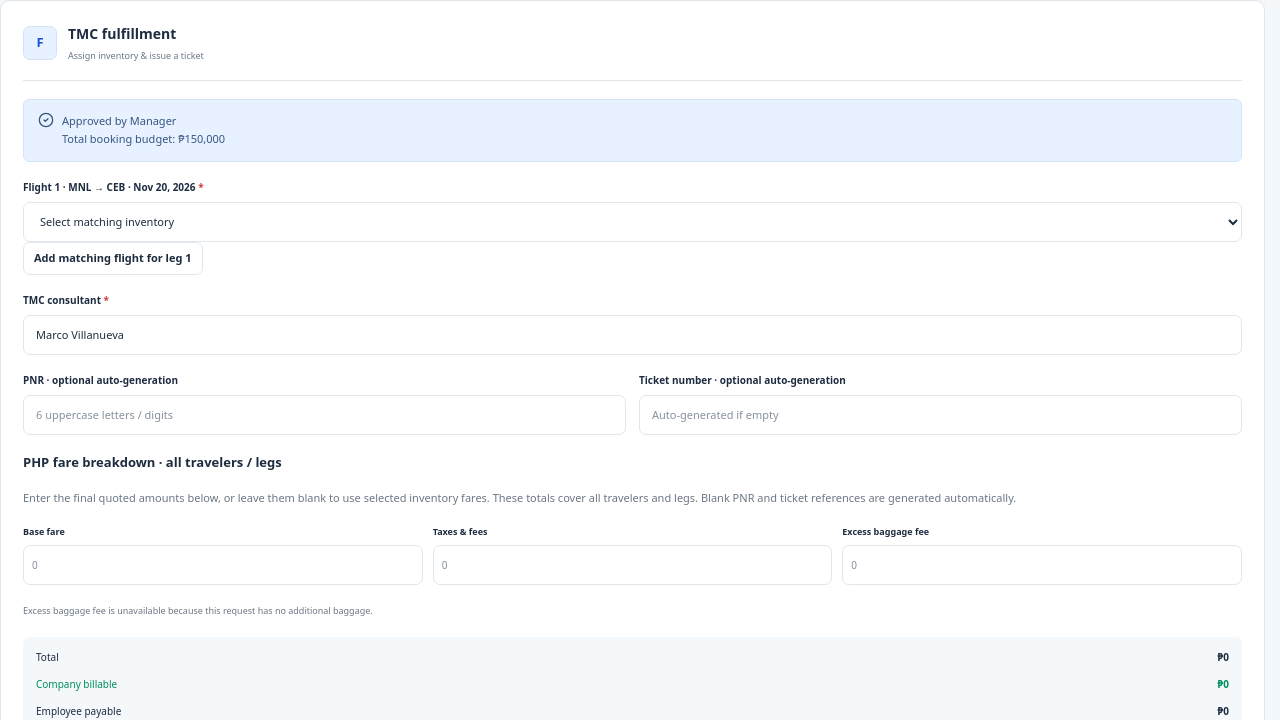
Test: resets overrides when inventory changes and restores its fare defaults
Select "PR 2845 · Philippine Airlines · 120 seats" in the dropdown labelled "Flight 1 · MNL → CEB · Nov 20, 2026 *" at [632, 222], box [23,202,1242,242]
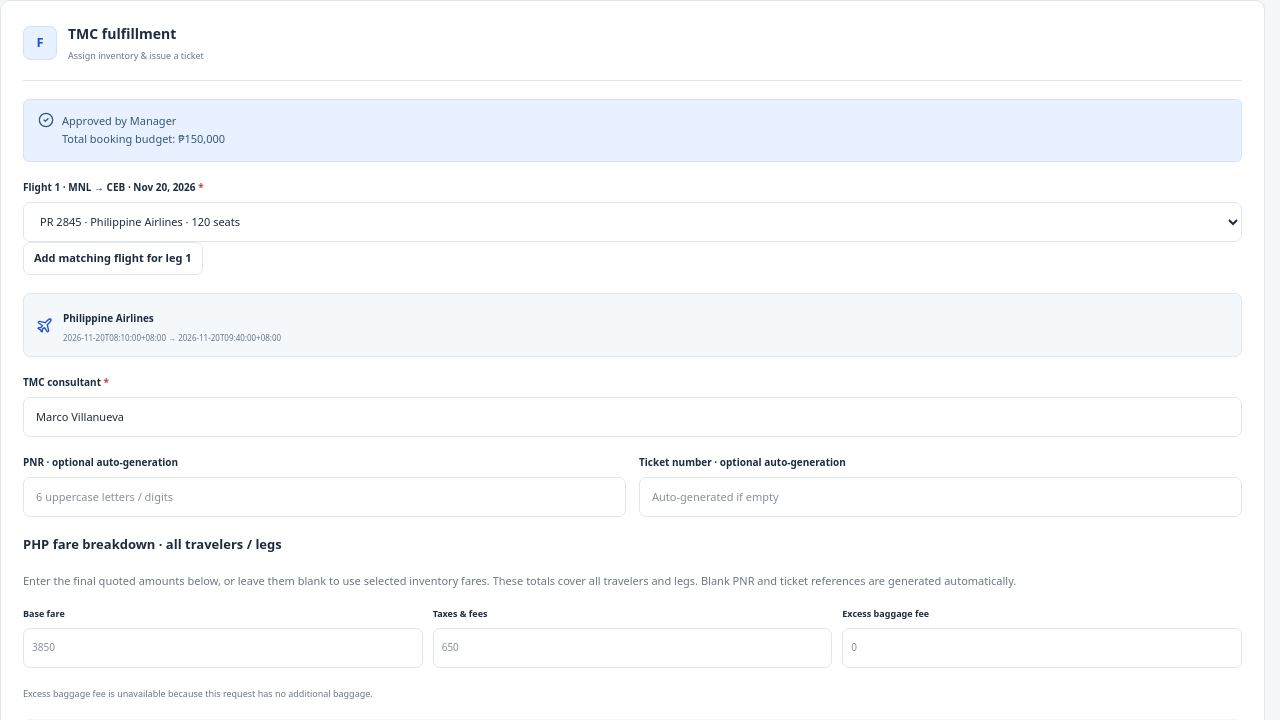
Type "100" into the number field labelled "Base fare".
click(223, 648); type("100")  # box [23,628,423,668]
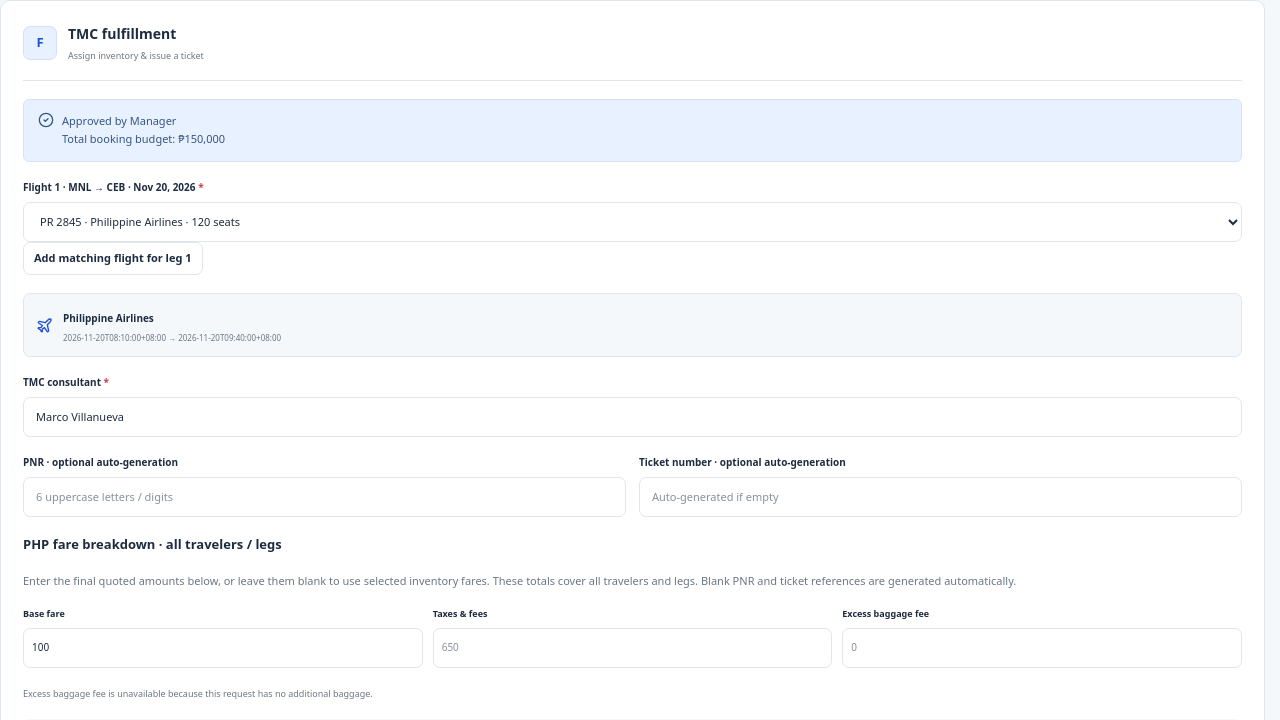
Select "5J 563 · Cebu Pacific · 116 seats" in the dropdown labelled "Flight 1 · MNL → CEB · Nov 20, 2026 *" at [632, 222], box [23,202,1242,242]
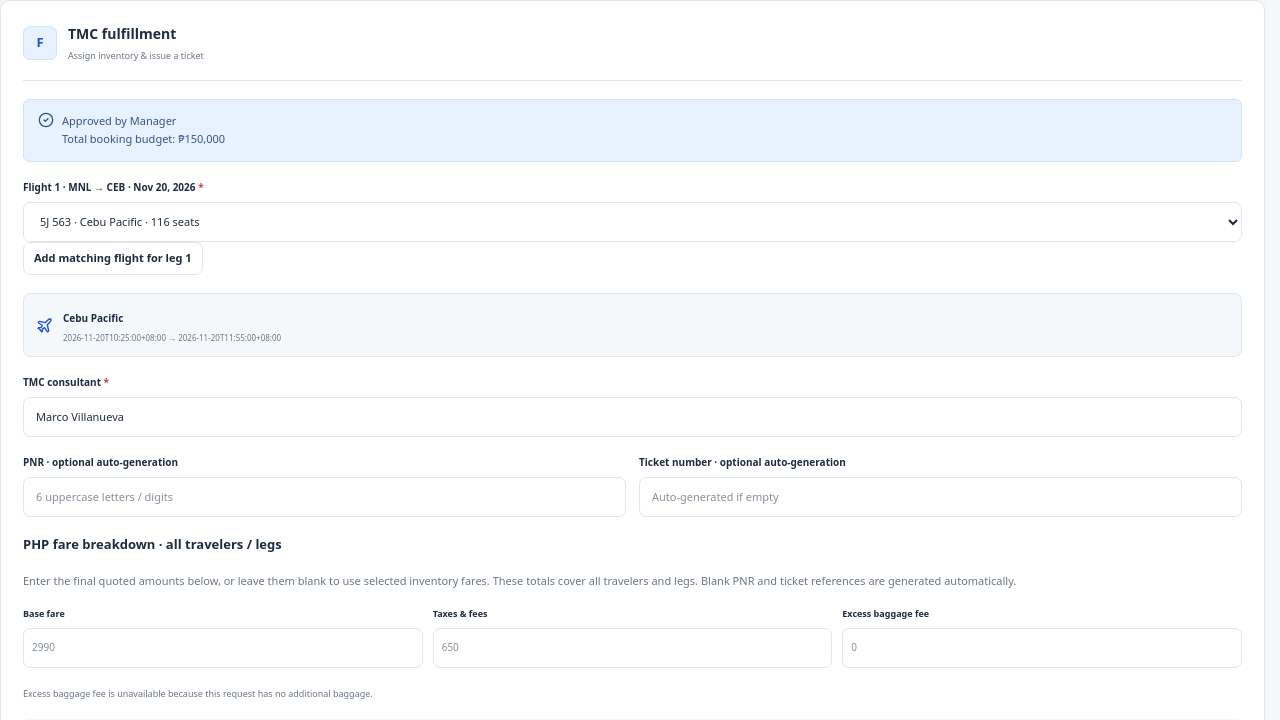
Check: the number field labelled "Base fare" is not empty, box [23,628,423,668]
